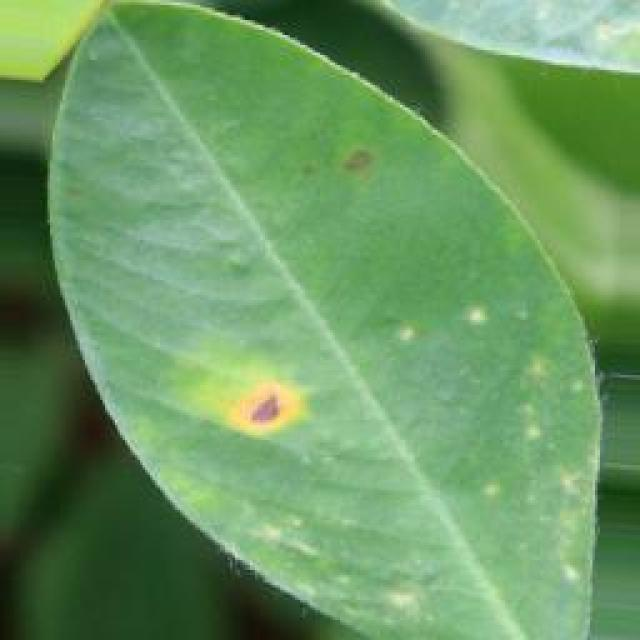Early_leaf_spot: (198, 342, 319, 471), (310, 112, 392, 193)
